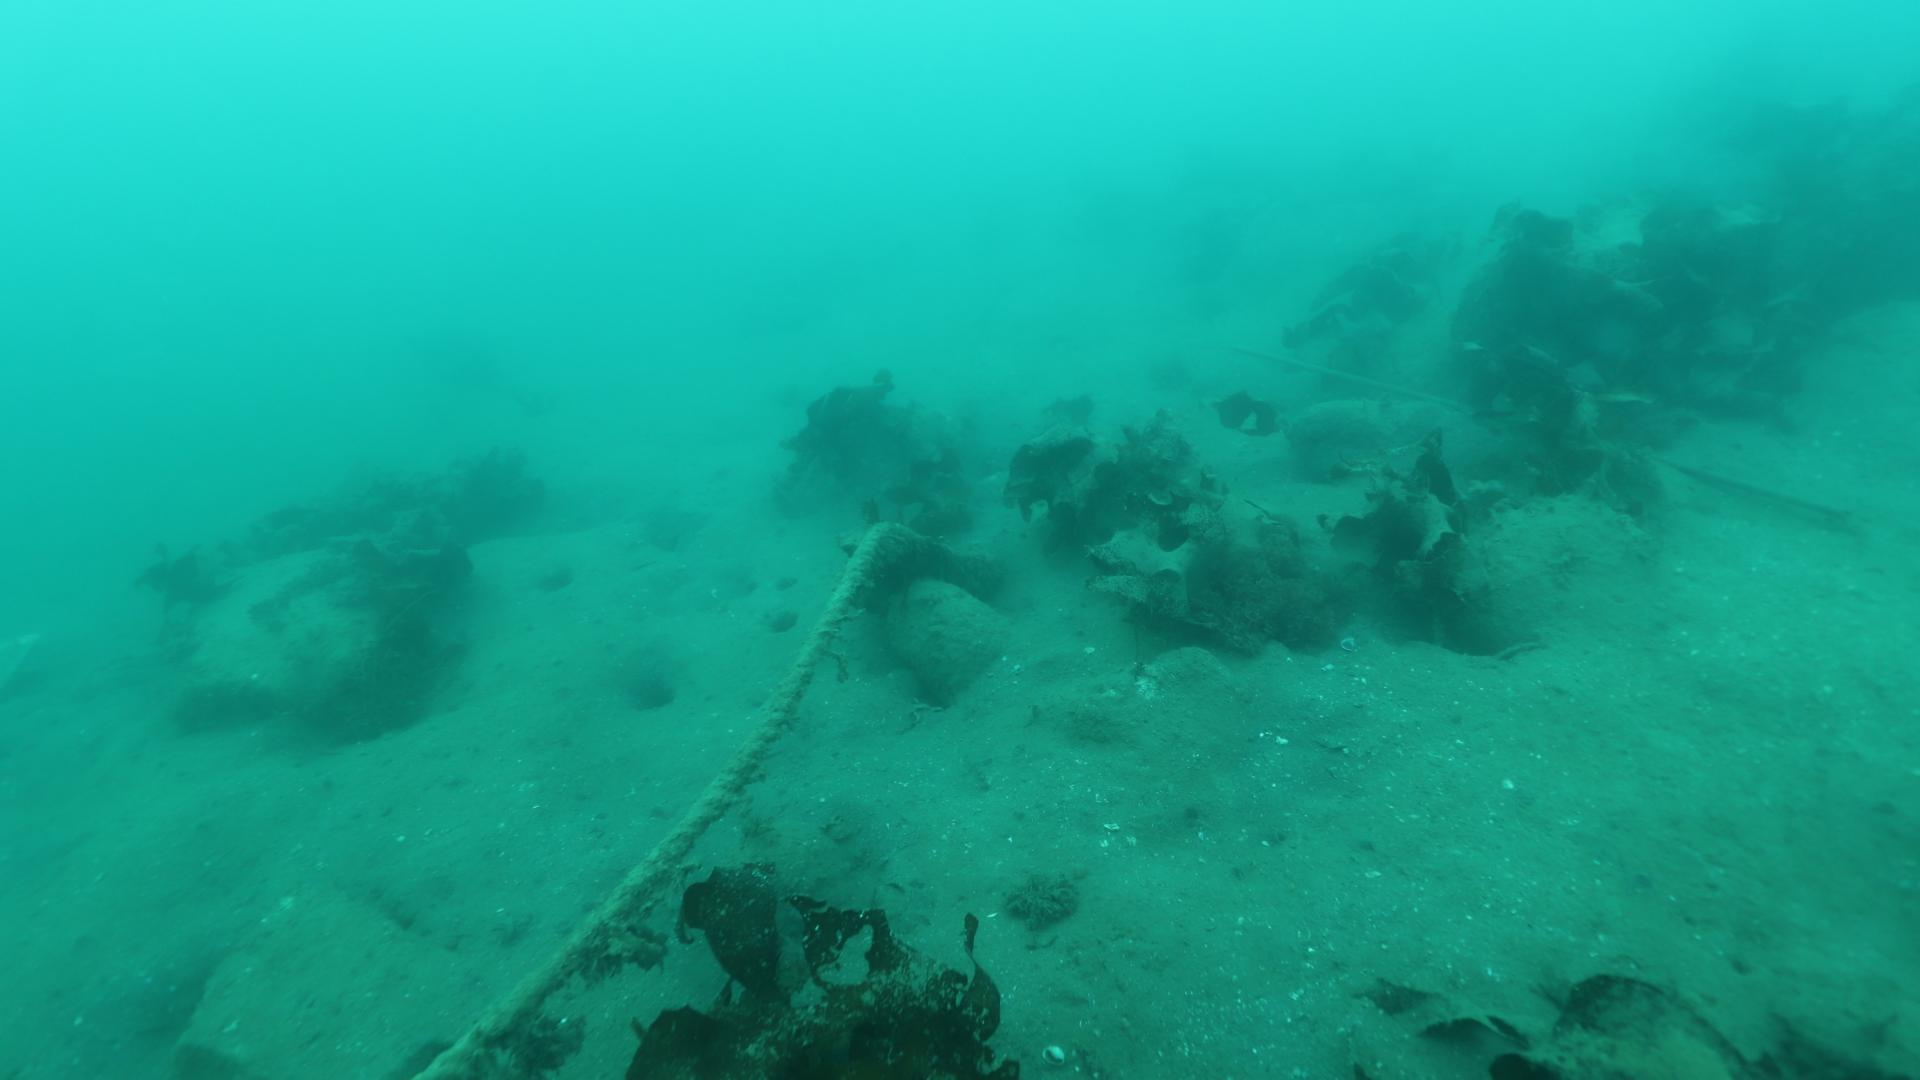rope: (409, 517, 944, 1080)
